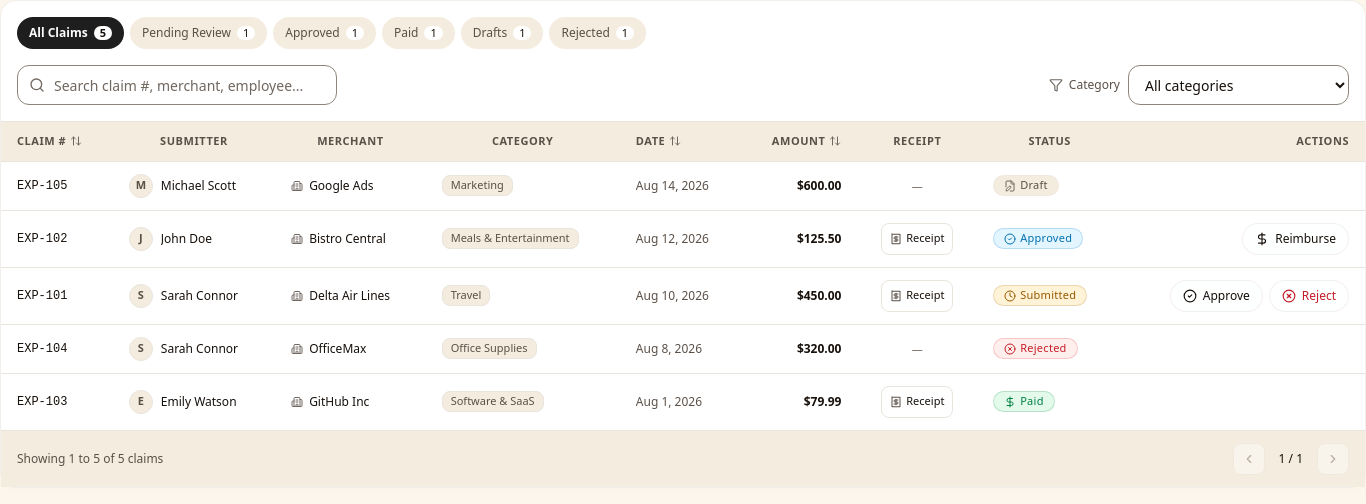
Test case: ExpenseClaimsTable Component › filters claims via status tabs
Click the button with test id "status-tab-approved": (325, 33) top-left (273, 17), bottom-right (376, 49)
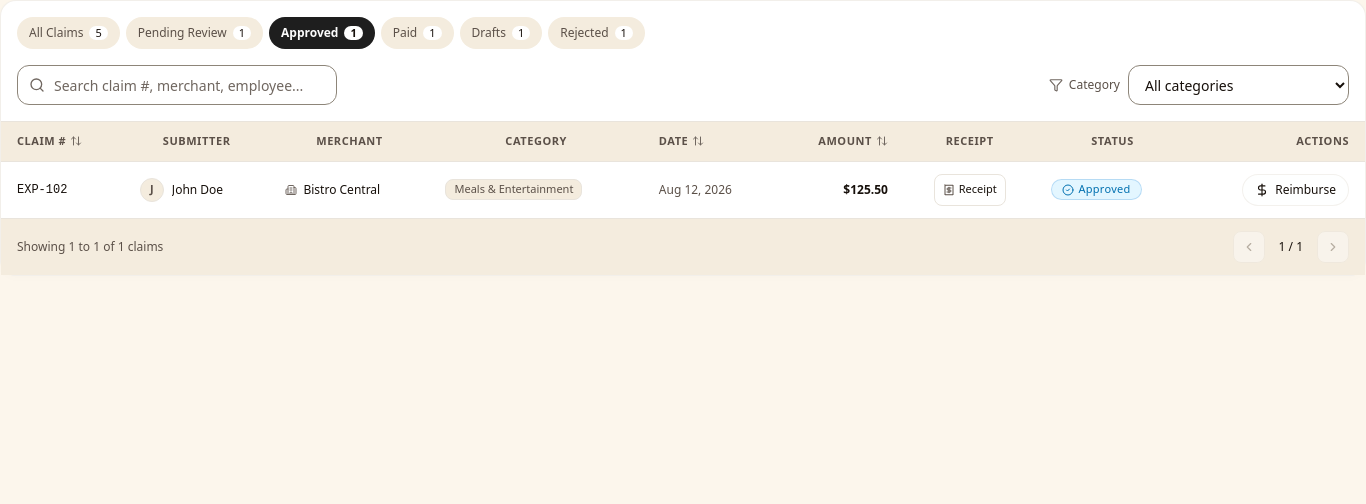
Check: the button "EXP-102" is shown, box top-left (17, 182), bottom-right (67, 198)
Check: the button "EXP-101" is gone
Check: the button "EXP-103" is gone
